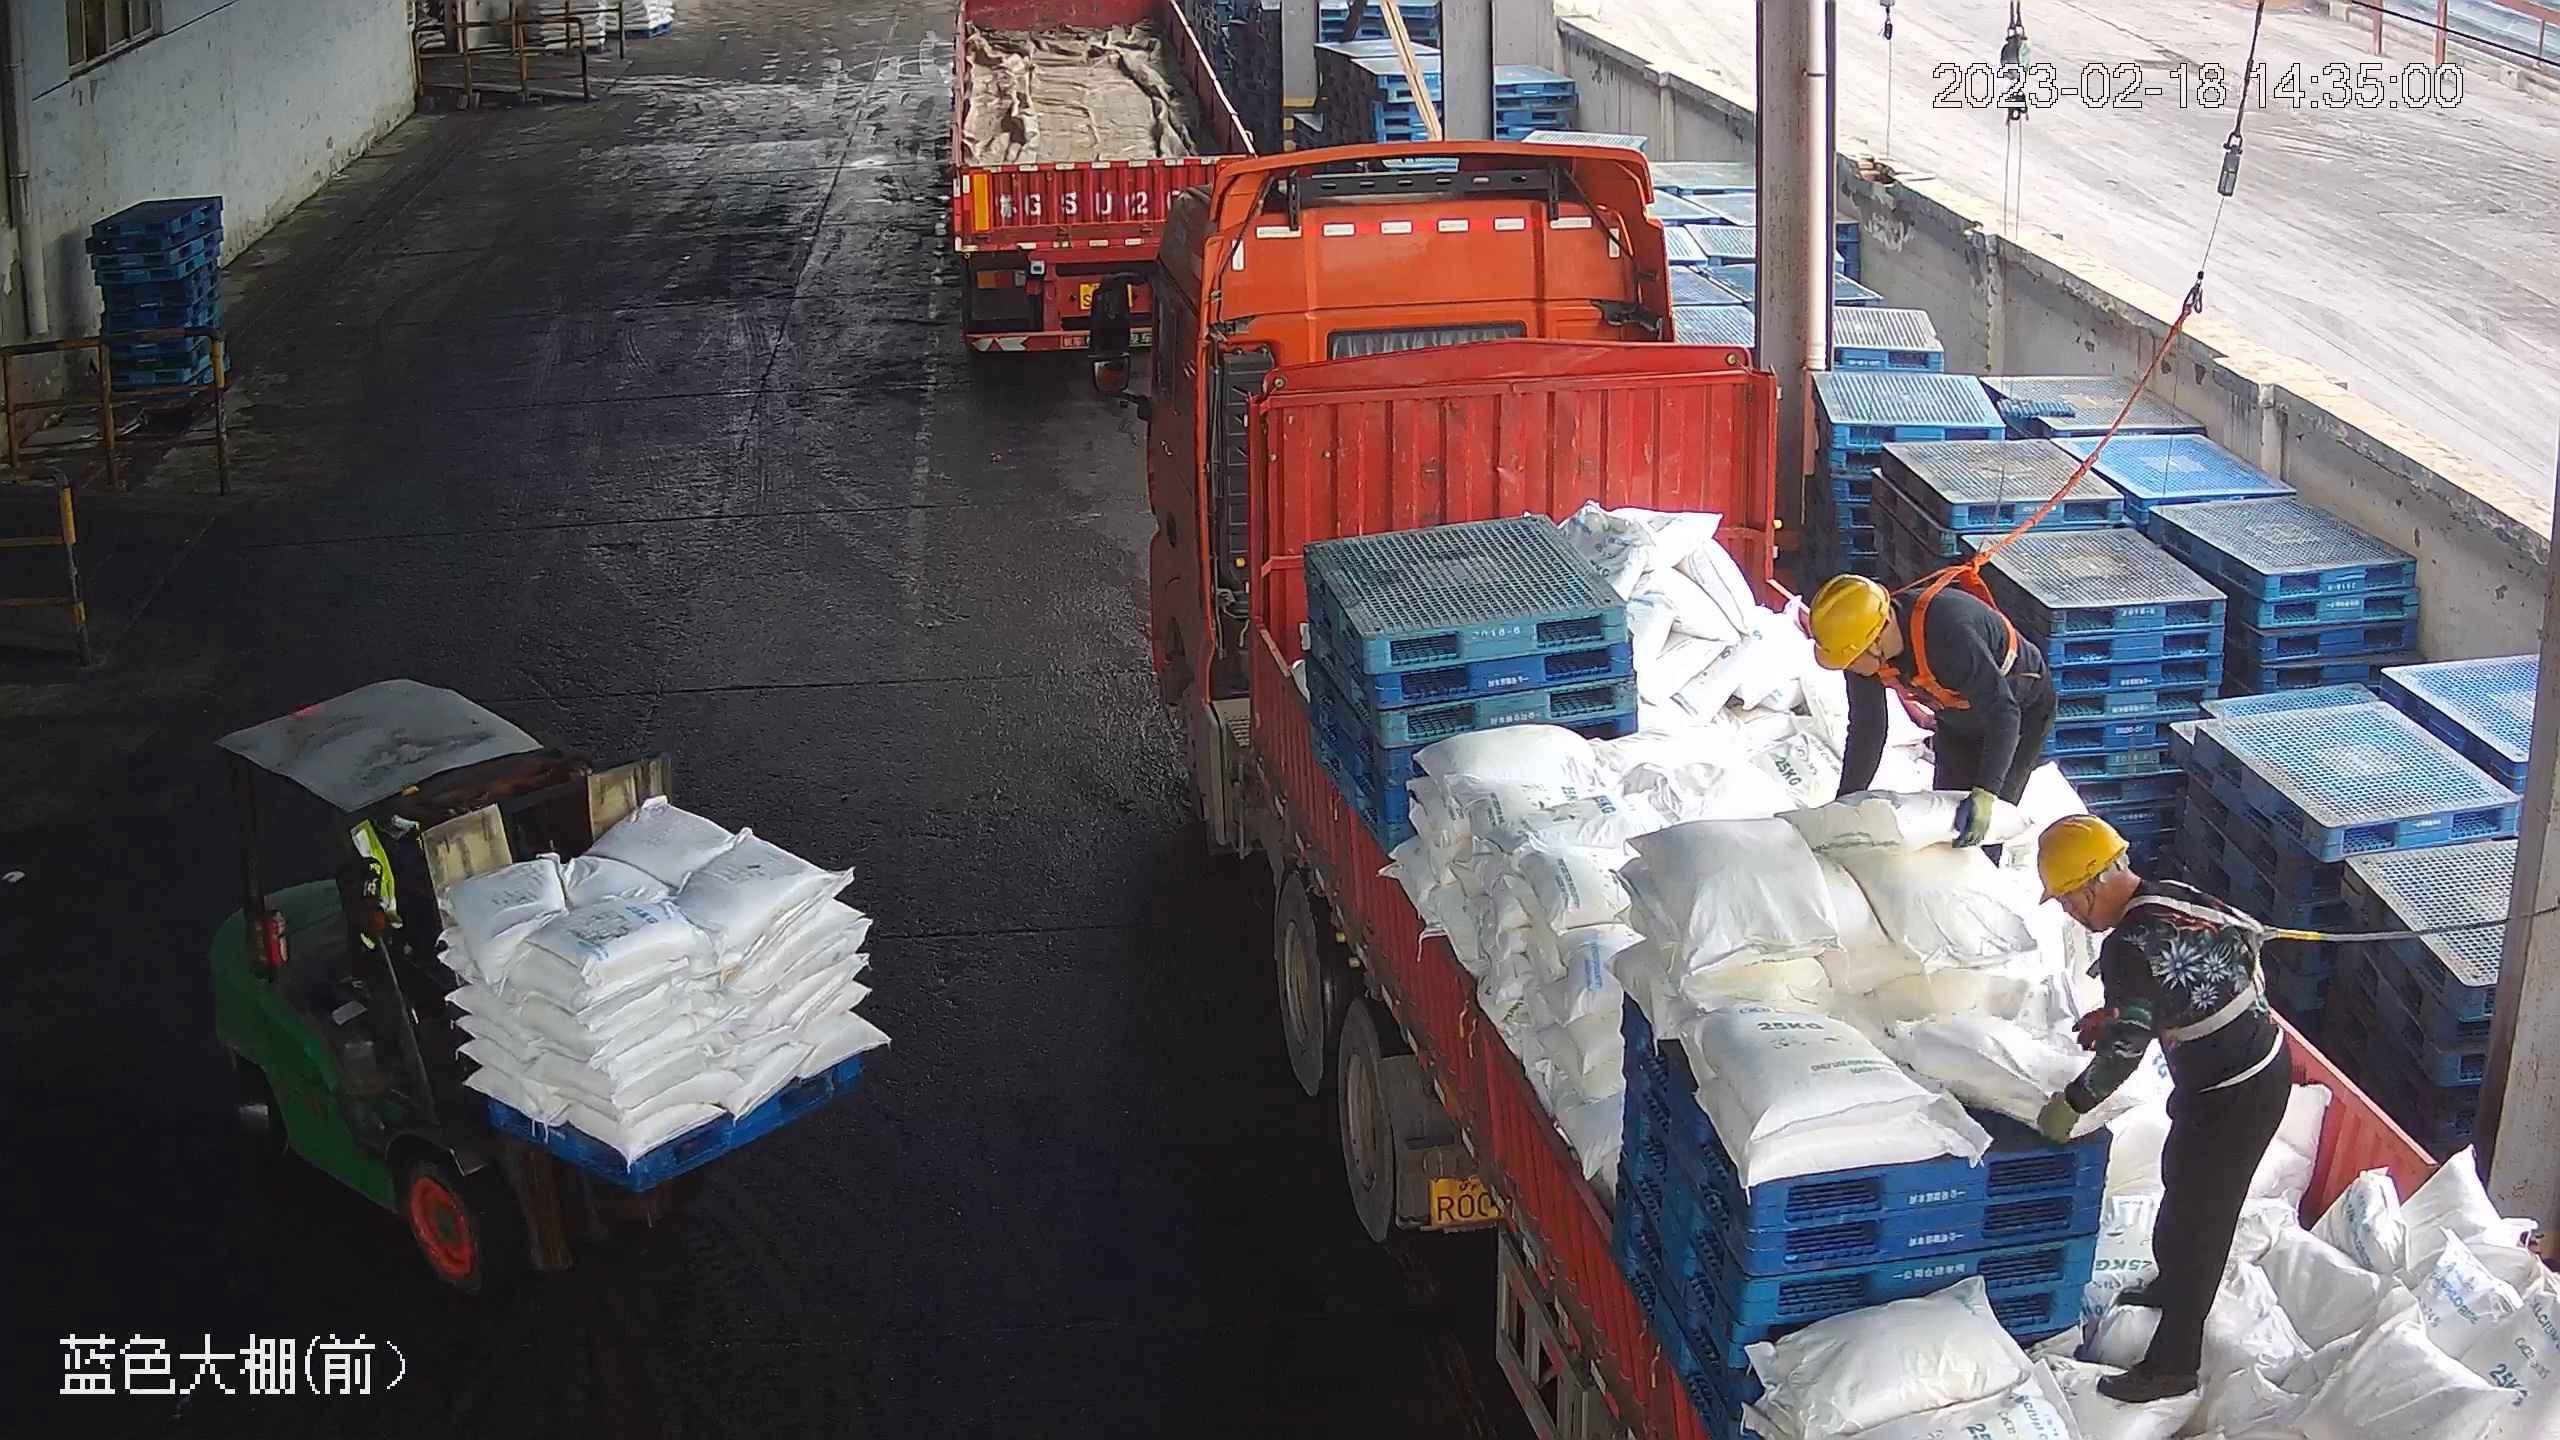belt: (2132, 876, 2308, 1040), (1896, 558, 2023, 719)
head: (2034, 815, 2218, 994), (1809, 570, 1966, 705)
helmet: (2038, 818, 2131, 908), (1810, 575, 1891, 670)
people: (2030, 815, 2295, 1405), (1808, 571, 2056, 871)
truck: (1088, 132, 2560, 1440), (947, 1, 1267, 379)
